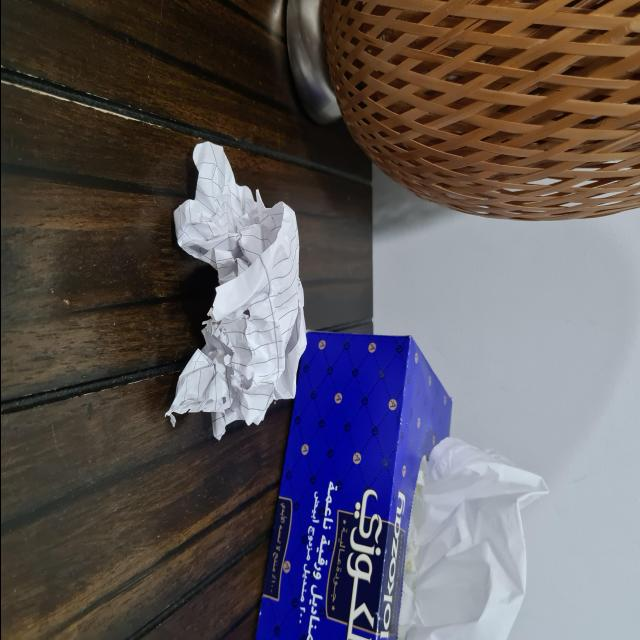kertas: (170, 142, 312, 432)
